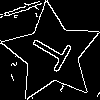T: (26, 28, 80, 78)
